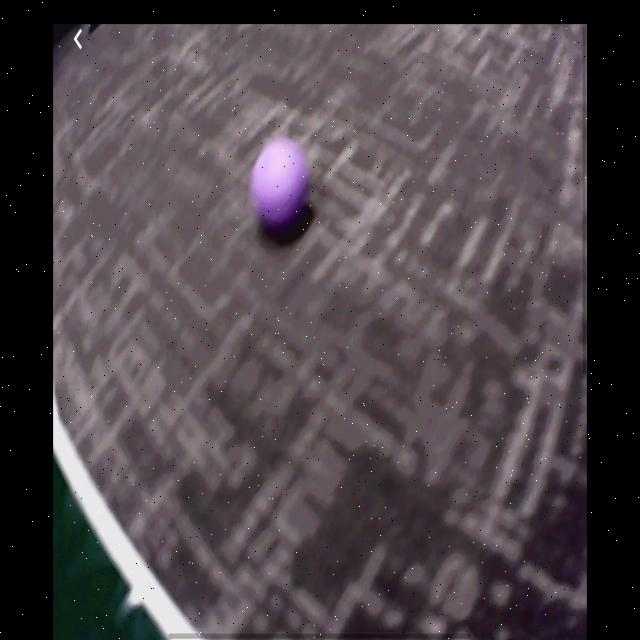ball: (250, 136, 312, 231)
